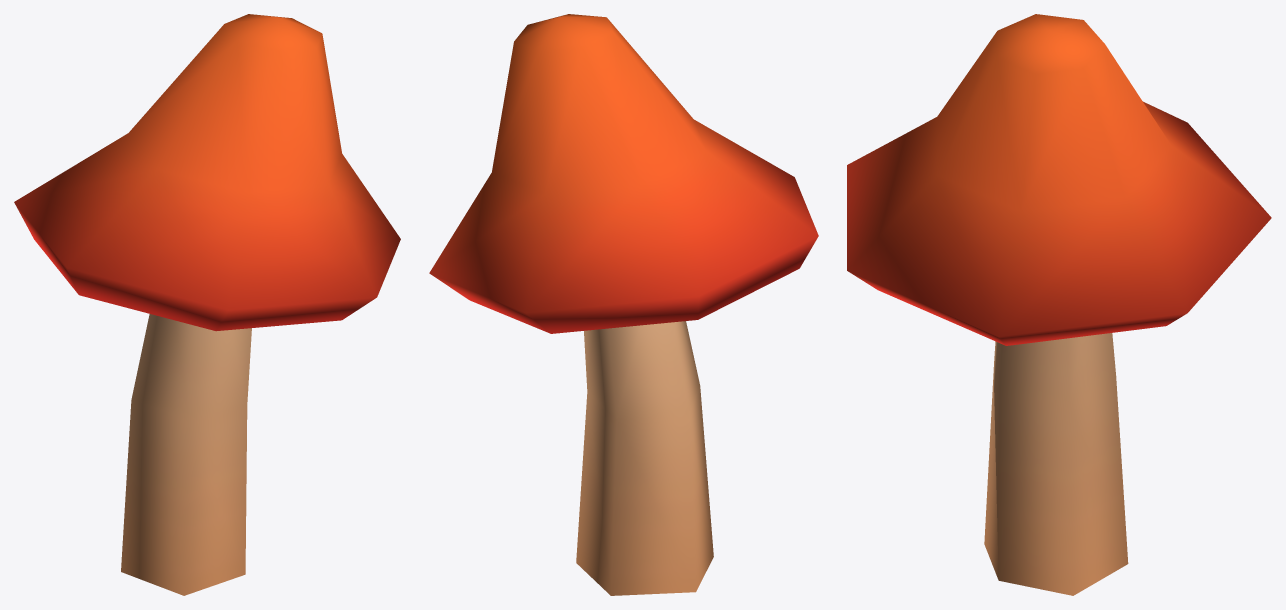
The model's file is ENEMY_mdl_EnemyStatic.glb.
3 renders of one model, left to right at view 1: azimuth 30°, elevation 25°; view 2: azimuth 150°, elevation 25°; view 3: azimuth 270°, elevation 25°, orthographic. The views are drawn at different scales.
Parts seen in each view (by area): view 1: mushroom; view 2: mushroom; view 3: mushroom.
Part boxes in pixels (left/top/right/bottom): mushroom: left=14, top=14, right=400, bottom=595; mushroom: left=429, top=14, right=818, bottom=595; mushroom: left=847, top=14, right=1271, bottom=595.
Bounding box in the file's own units: 4.79 × 7.22 × 4.8.
Materials: 1 (1 with a texture image).
